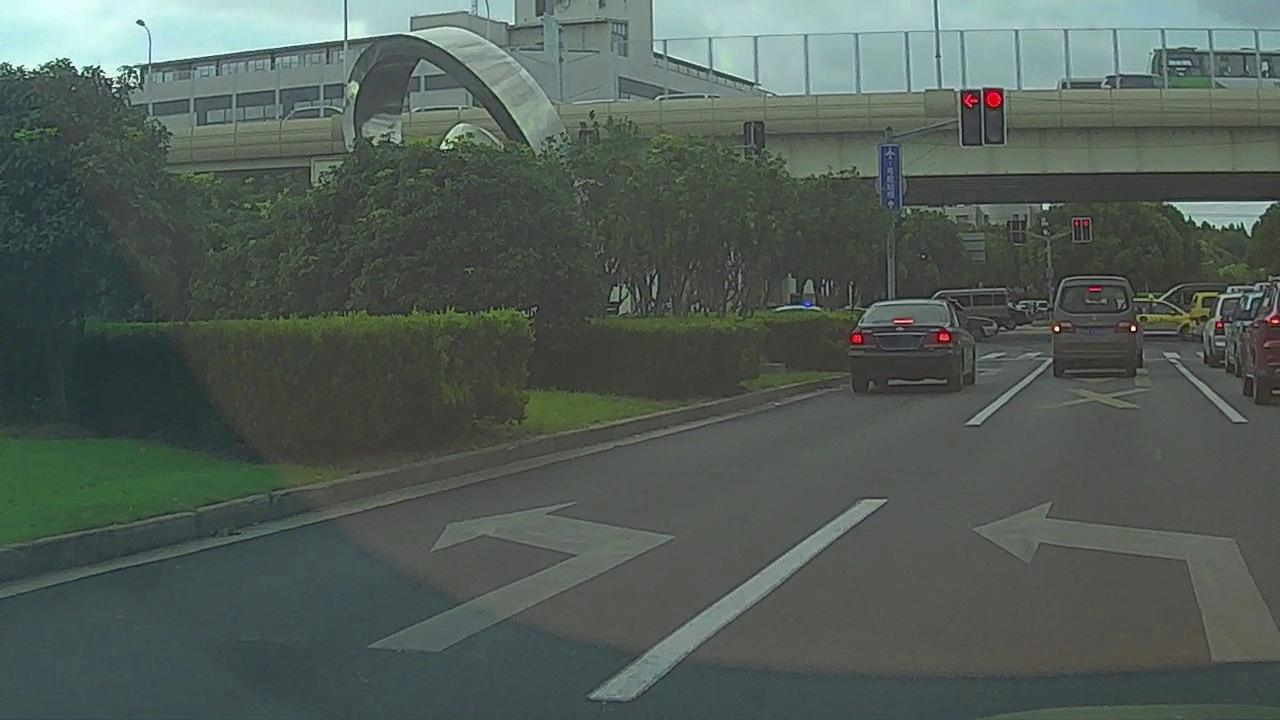traffic_light: (962, 93, 984, 147), (985, 87, 1004, 146), (1081, 219, 1091, 241), (1074, 217, 1080, 240)
